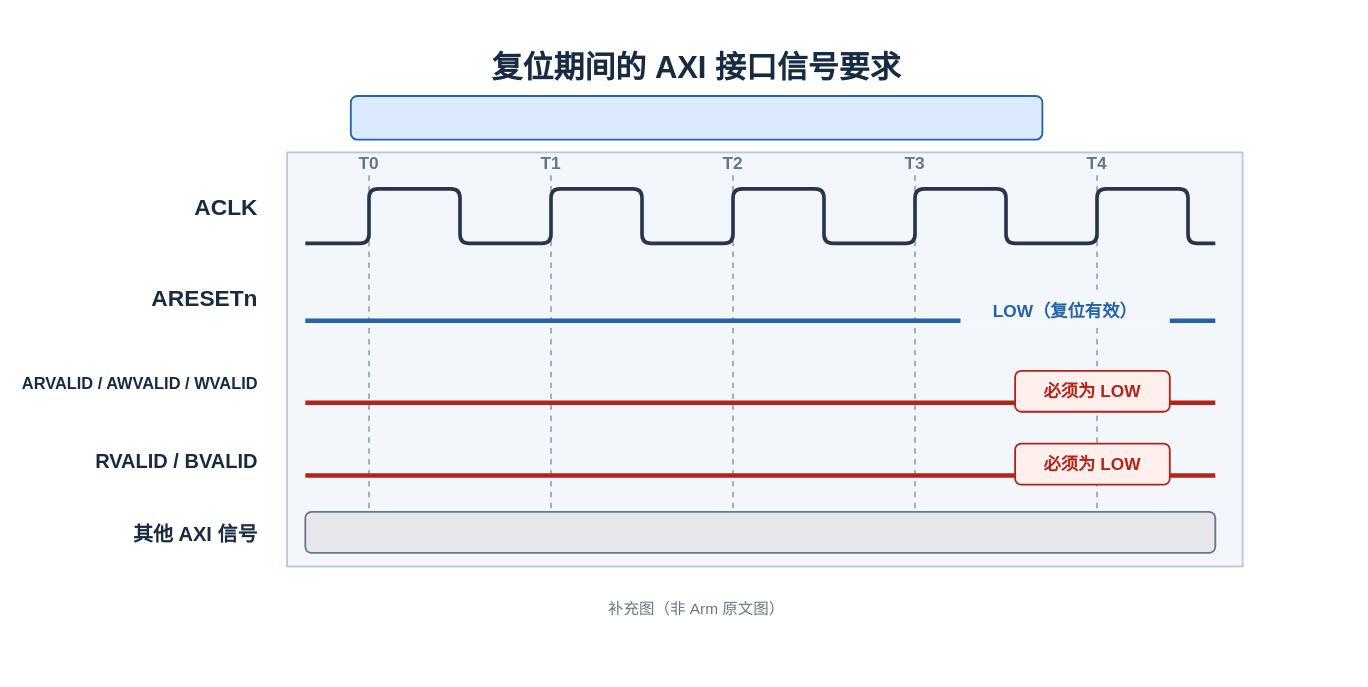
The diagram is 1368 pixels wide and 687 high, and some of its shapes have lost their labels. The centre of each missing label's shape, as x and y in pixels:
"任意值（AXI 不规定复位值）" belongs at (760,532).
"整个图示区间：ARESETn = LOW，接口处于复位" belongs at (696,117).
